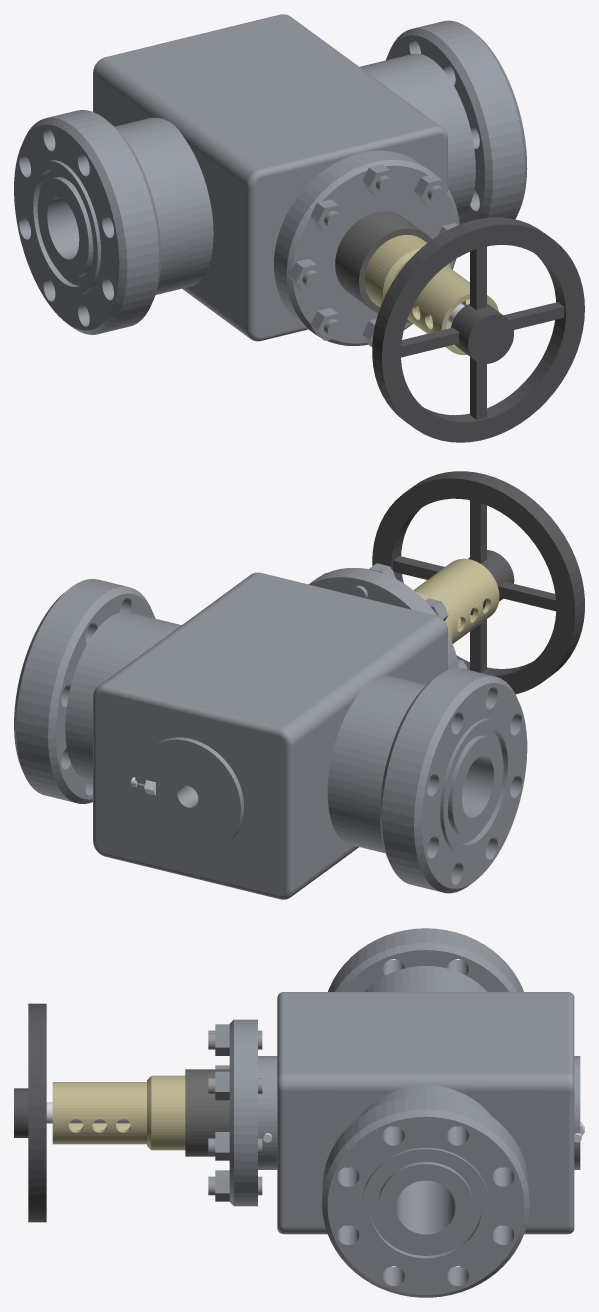
File: WH-GATEVALVE.4-15K.glb
3 renders of one model, top to bottom at view 1: azimuth 30°, elevation 25°; view 2: azimuth 150°, elevation 25°; view 3: azimuth 270°, elevation 25°, orthographic. The views are drawn at different scales.
Parts seen in each view (by area): view 1: WH-GATEVALVE-BODY, WH-GATEVALVE-FLANGE-IN, WH-GATEVALVE-HANDWHEEL, WH-GATEVALVE-BONNET, WH-GATEVALVE-FLANGE-OUT, WH-GATEVALVE-BEARING, WH-GATEVALVE-PACKING; view 2: WH-GATEVALVE-BODY, WH-GATEVALVE-FLANGE-IN, WH-GATEVALVE-HANDWHEEL, WH-GATEVALVE-FLANGE-OUT, WH-GATEVALVE-BEARING, WH-GATEVALVE-BONNET; view 3: WH-GATEVALVE-BODY, WH-GATEVALVE-FLANGE-OUT, WH-GATEVALVE-BEARING, WH-GATEVALVE-BONNET, WH-GATEVALVE-FLANGE-IN, WH-GATEVALVE-HANDWHEEL, WH-GATEVALVE-PACKING.
Boxes of the visible parts, <box> form: WH-GATEVALVE-BODY: <box>93,14,475,341</box>; WH-GATEVALVE-FLANGE-IN: <box>14,110,161,334</box>; WH-GATEVALVE-HANDWHEEL: <box>372,217,584,442</box>; WH-GATEVALVE-BONNET: <box>274,150,459,346</box>; WH-GATEVALVE-FLANGE-OUT: <box>386,20,527,224</box>; WH-GATEVALVE-BEARING: <box>364,235,498,355</box>; WH-GATEVALVE-PACKING: <box>335,211,431,312</box>; WH-GATEVALVE-BODY: <box>65,572,447,899</box>; WH-GATEVALVE-FLANGE-IN: <box>380,668,527,893</box>; WH-GATEVALVE-HANDWHEEL: <box>372,471,584,694</box>; WH-GATEVALVE-FLANGE-OUT: <box>14,579,155,803</box>; WH-GATEVALVE-BEARING: <box>413,558,499,643</box>; WH-GATEVALVE-BONNET: <box>308,563,467,669</box>; WH-GATEVALVE-BODY: <box>258,966,580,1234</box>; WH-GATEVALVE-FLANGE-OUT: <box>322,1095,529,1297</box>; WH-GATEVALVE-BEARING: <box>52,1075,185,1150</box>; WH-GATEVALVE-BONNET: <box>208,1019,262,1206</box>; WH-GATEVALVE-FLANGE-IN: <box>328,928,523,991</box>; WH-GATEVALVE-HANDWHEEL: <box>14,1003,46,1222</box>; WH-GATEVALVE-PACKING: <box>185,1069,229,1156</box>.
Size of the model in its own units: 0.7747 by 0.3793 by 0.9893.
